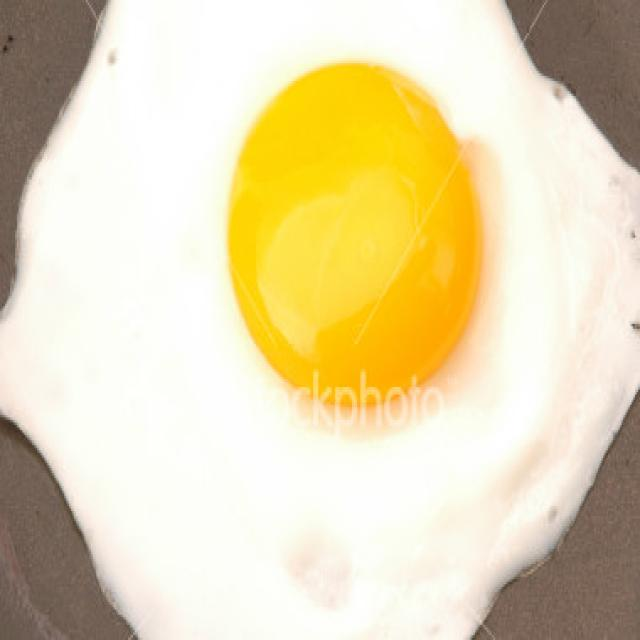鸡蛋料理: (0, 17, 640, 640)
